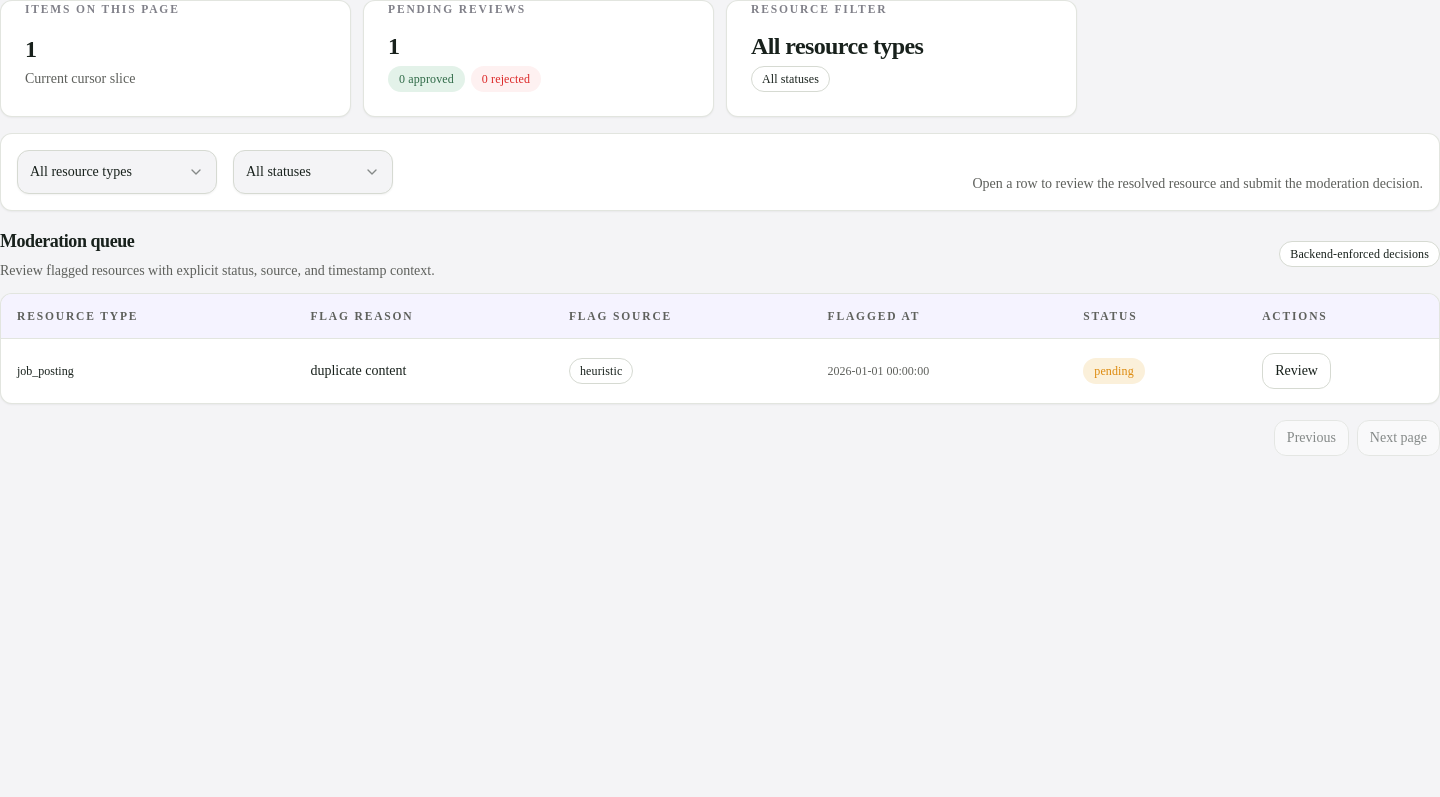
Scenario: ReviewQueueTable › opens the detail drawer when Review is clicked
The width and height of the screenshot is (1440, 797).
Click the button "Review". click: coordinates (1297, 371)
box: [1262,353,1331,389]
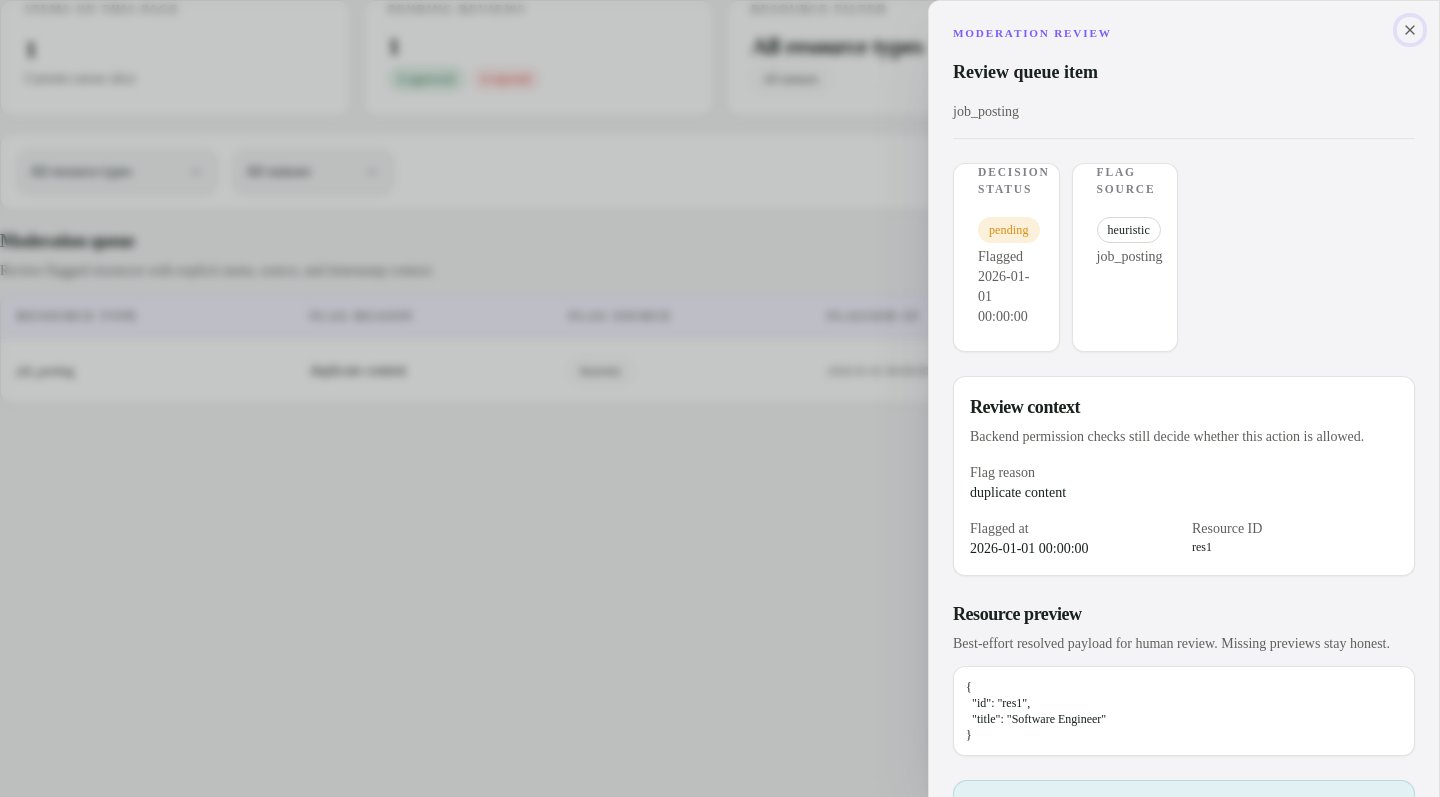
Expected: the heading "Review queue item" is shown, [953,62,1098,82]
